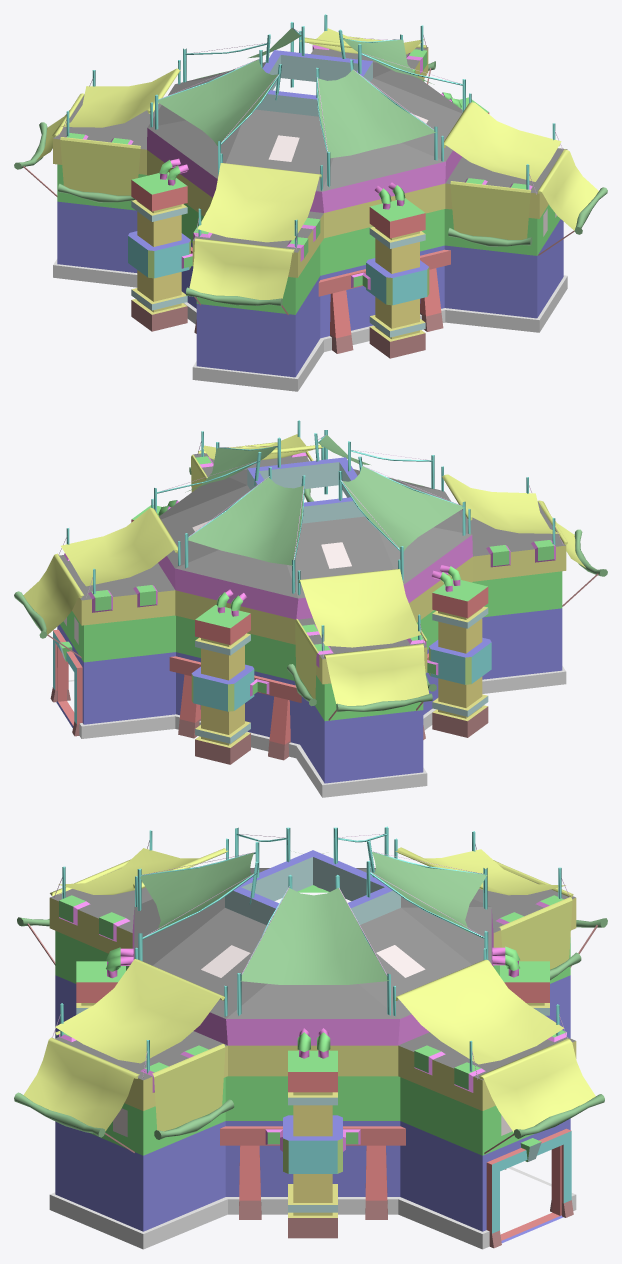
Rendered from L2fortress_02_s__fort02_engin.gltf.
3 renders of one model, top to bottom at view 1: azimuth 30°, elevation 25°; view 2: azimuth 150°, elevation 25°; view 3: azimuth 270°, elevation 25°, orthographic. The views are drawn at different scales.
Parts seen in each view (by area): view 1: fort02_engin; view 2: fort02_engin; view 3: fort02_engin.
Boxes of the visible parts, x1,y1,x2,y2 form: fort02_engin: (14,14,607,391); fort02_engin: (14,420,607,797); fort02_engin: (14,826,607,1249).
Size of the model in its own units: 10.51 by 5.61 by 10.51.
